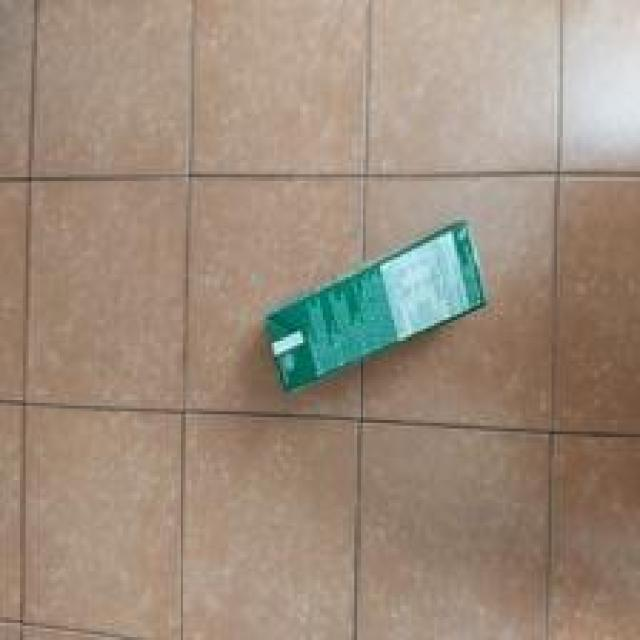Carton: (263, 215, 496, 401)
